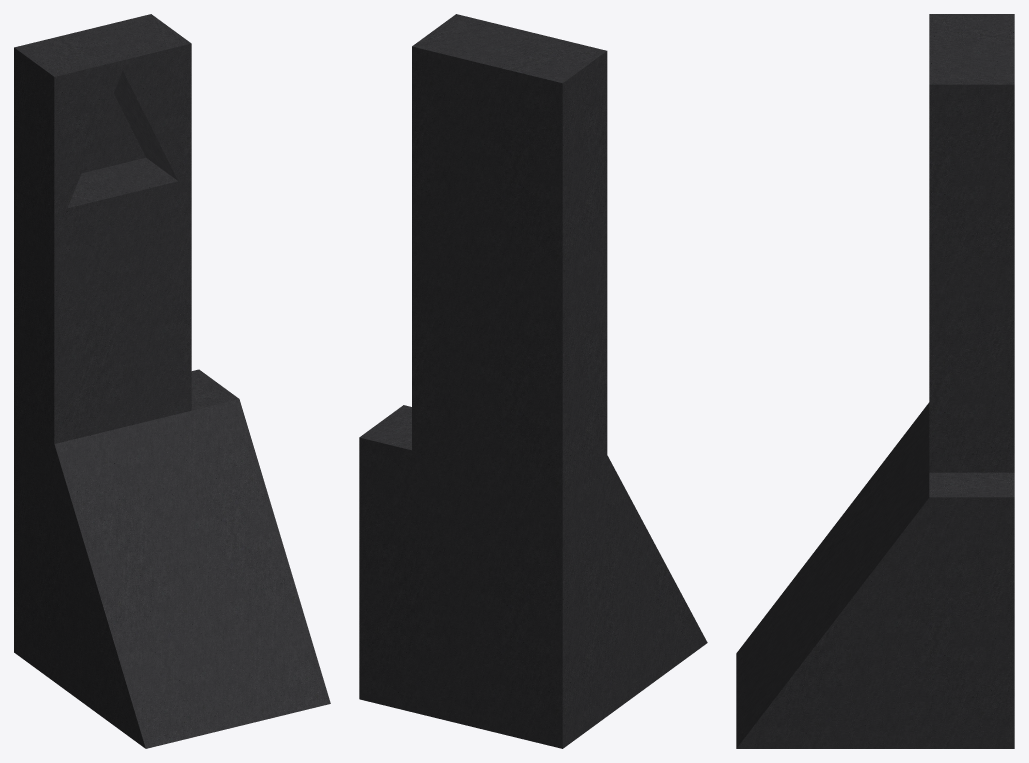
File: king-black-hd.glb
3 renders of one model, left to right at view 1: azimuth 30°, elevation 25°; view 2: azimuth 150°, elevation 25°; view 3: azimuth 270°, elevation 25°, orthographic. The views are drawn at different scales.
Visible parts, largest first — view 1: kral_cerna; view 2: kral_cerna; view 3: kral_cerna.
Boxes of the visible parts, <box> form: kral_cerna: <box>14,14,330,748</box>; kral_cerna: <box>359,14,707,748</box>; kral_cerna: <box>736,14,1014,748</box>.
Bounding box in the file's own units: 0.4544 × 1.42 × 0.5605.
1 material, 1 textured.
